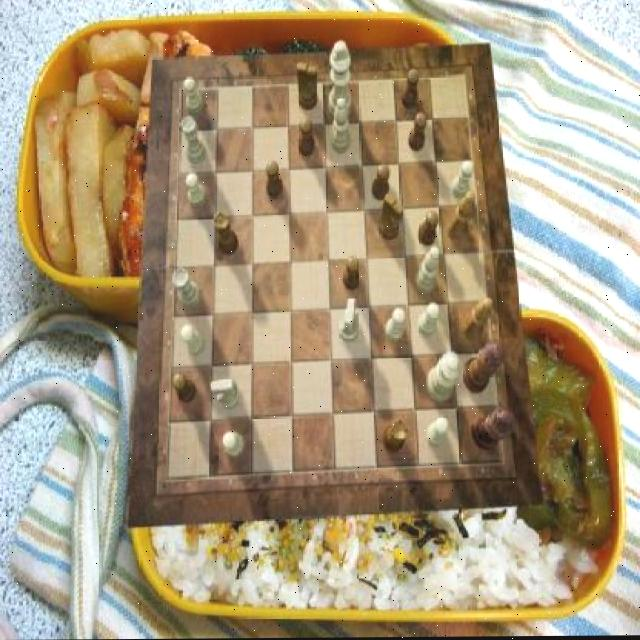bishop: (446, 191, 476, 242), (460, 299, 492, 343)
black-bishop: (472, 408, 516, 451)
black-king: (379, 195, 403, 241), (297, 64, 317, 112)
black-knight: (408, 115, 428, 155), (418, 211, 438, 248), (172, 372, 195, 403), (401, 70, 418, 110), (266, 162, 283, 199), (300, 120, 316, 159), (372, 166, 389, 202), (343, 257, 360, 291)
black-pawn: (462, 340, 504, 395)
black-queen: (212, 213, 237, 257), (382, 421, 408, 455)
black-rook: (415, 248, 440, 296), (332, 97, 351, 154)
white-bishop: (328, 42, 350, 123)
white-king: (210, 378, 240, 411), (339, 296, 360, 342)
white-knight: (451, 162, 474, 200), (417, 303, 440, 338), (180, 325, 203, 358), (183, 78, 203, 115), (426, 417, 449, 449), (184, 174, 204, 209), (384, 308, 404, 342), (222, 431, 245, 456)
white-pawn: (426, 353, 462, 404)
white-queen: (182, 118, 206, 165), (172, 270, 200, 310)
